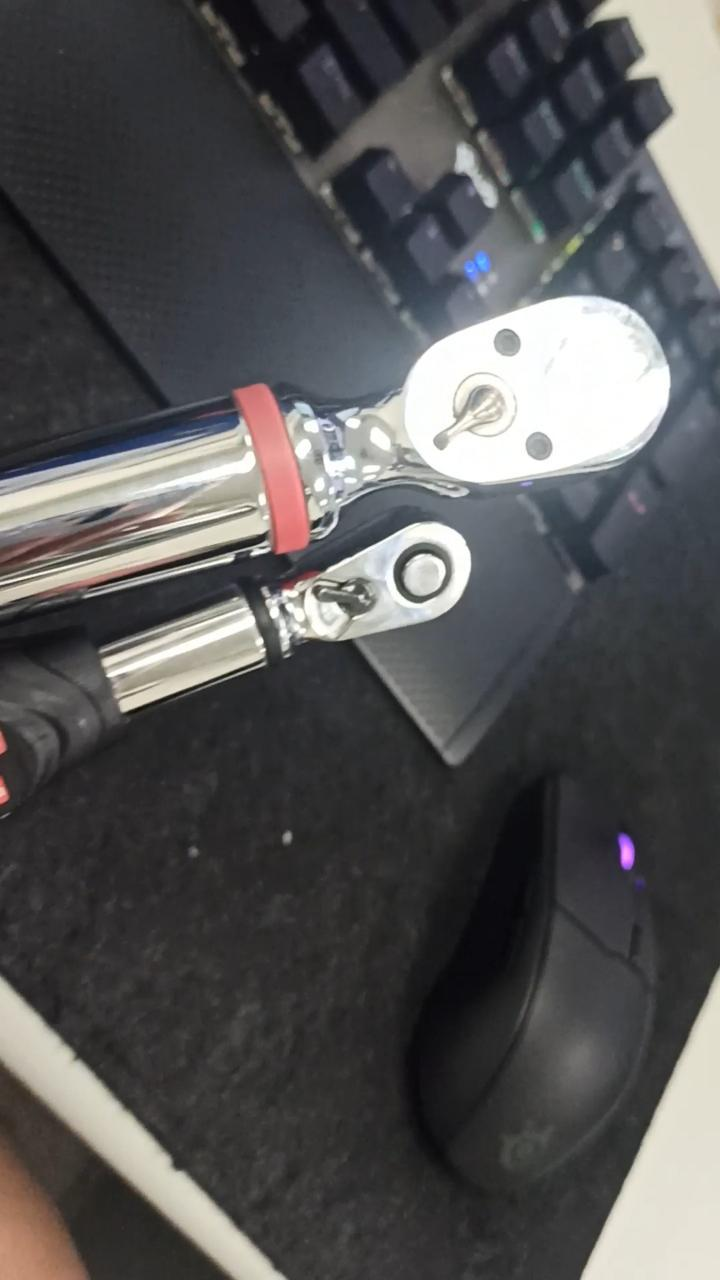Tool: (265, 286, 695, 492), (247, 520, 487, 662)
